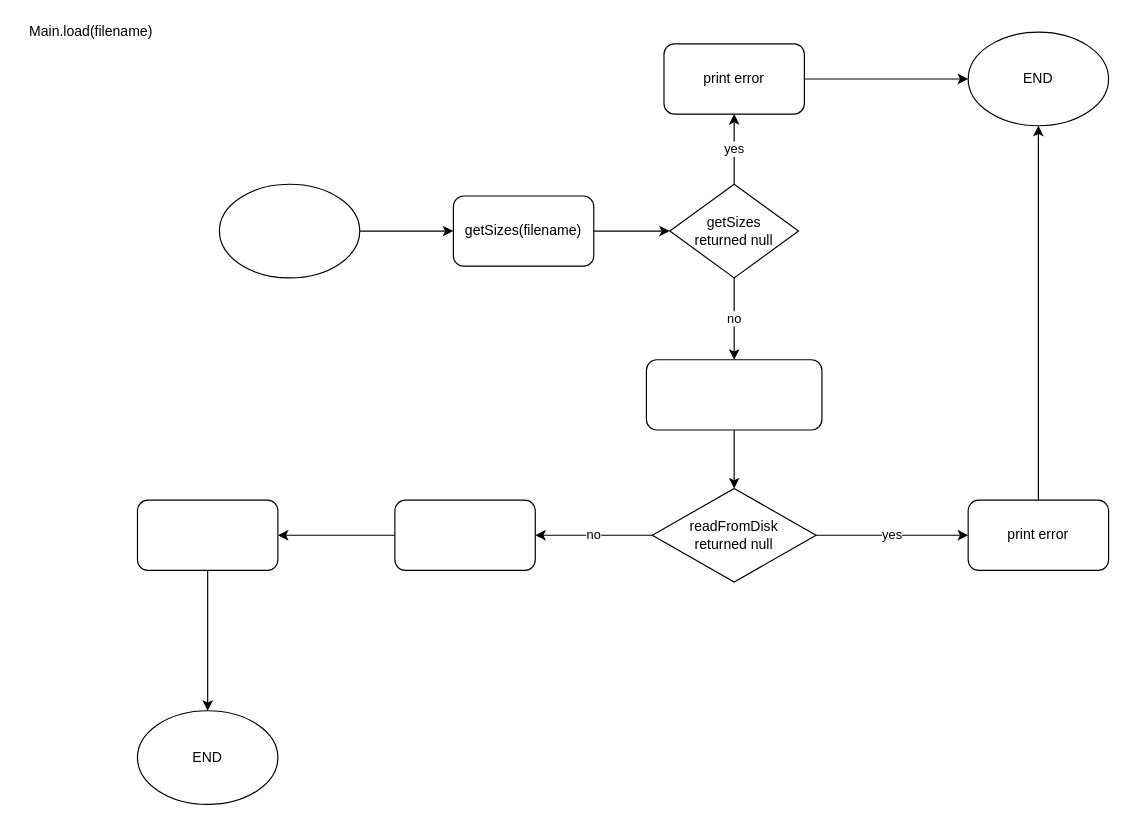
This 1129x825 diagram has some shape labels left out. Each missing label, with the centre of its shape:
"Creates 'mainCube'" goes at point (464, 534).
"prints statistics about the load" goes at point (207, 534).
"readFromDisk(filename)" goes at point (733, 394).
"START" goes at point (289, 230).
